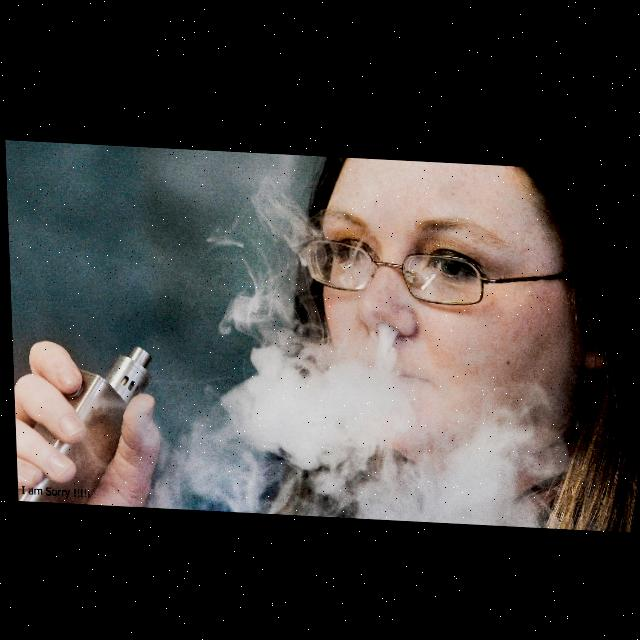vape: (11, 339, 154, 507)
